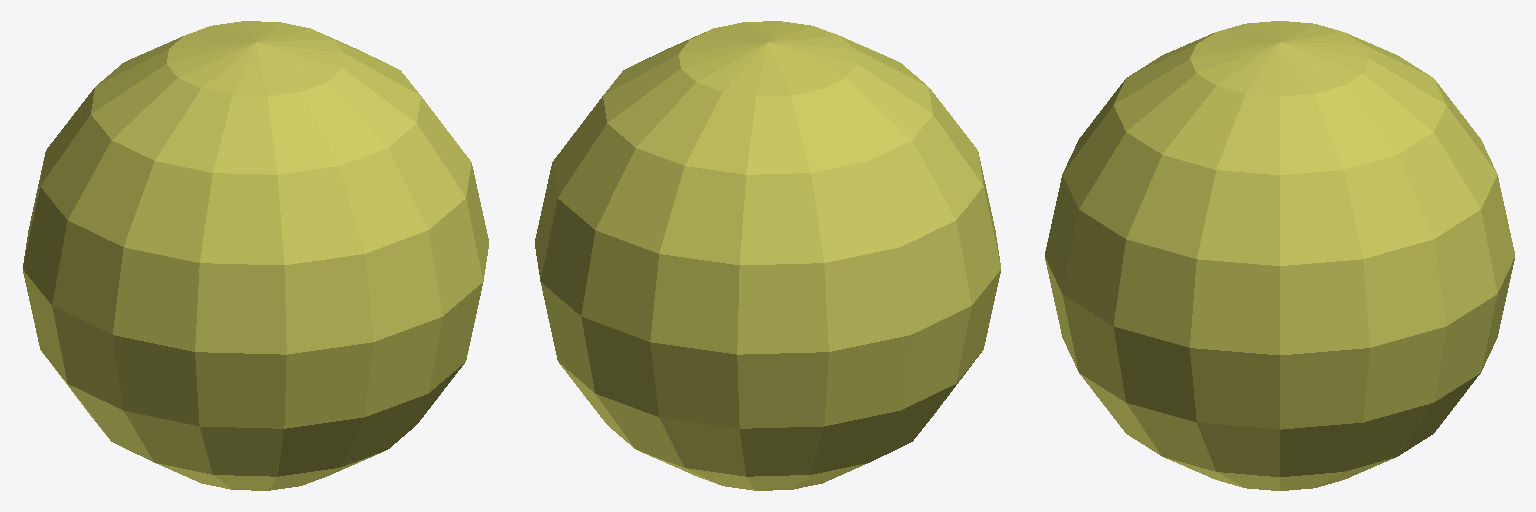
The model's file is Energie2.obj.
The picture shows the model from 3 angles: view 1: azimuth 30°, elevation 25°; view 2: azimuth 150°, elevation 25°; view 3: azimuth 270°, elevation 25°; orthographic projection.
Visible parts, largest first — view 1: Kugel; view 2: Kugel; view 3: Kugel.
Boxes of the visible parts, box(x1,y1,x2,y2) form: Kugel: box(23, 21, 488, 490); Kugel: box(535, 21, 1000, 490); Kugel: box(1045, 21, 1514, 490).
Size of the model in its own units: 200 by 200 by 200.